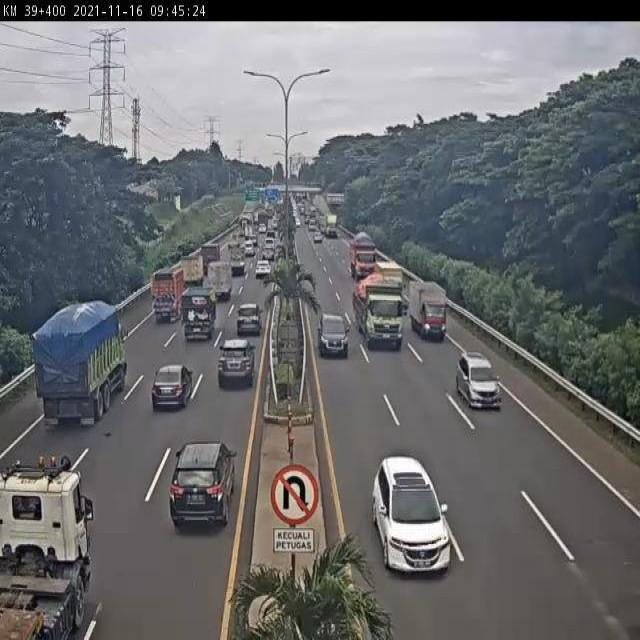car: (369, 460, 450, 577), (168, 441, 236, 536), (457, 348, 502, 411), (216, 332, 257, 388), (153, 361, 195, 412), (316, 311, 350, 357), (235, 305, 261, 340)
small truck: (411, 273, 450, 344), (207, 260, 231, 297), (181, 256, 203, 288)
truck-l-: (0, 464, 94, 640), (32, 292, 129, 429), (353, 272, 410, 352)
truck-m-: (178, 282, 214, 350), (151, 268, 187, 325)
